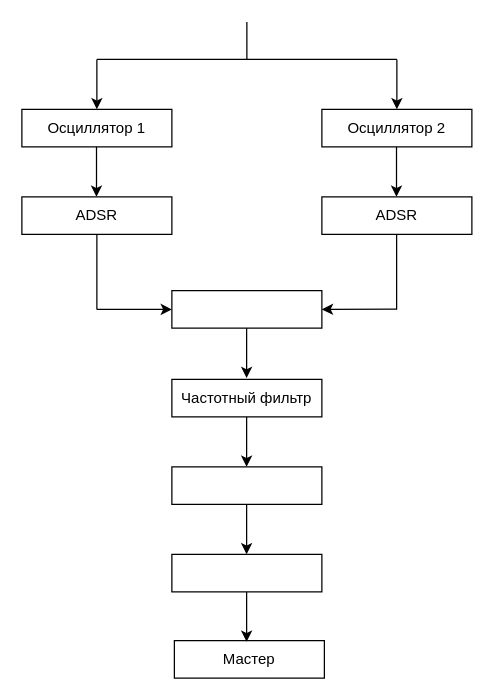
This 494x700 diagram has some shape labels left out. Here are the shapes that lost their labels. From the top down, the box of each, then its label:
(171, 289, 322, 328): Смешивание звуков
(171, 466, 322, 504): Дисторшн
(171, 553, 322, 592): Дилей
